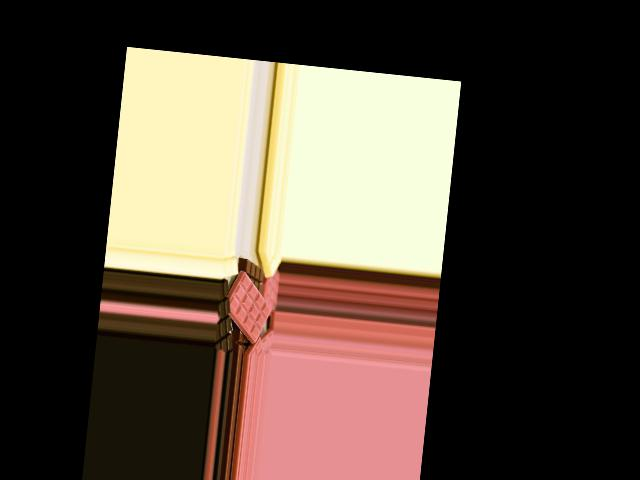chocolate: (214, 270, 276, 345)
